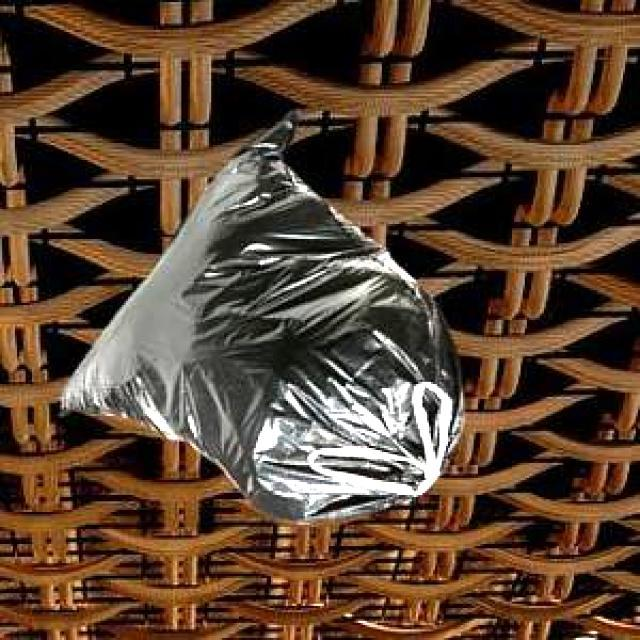Garbage_Bag: (58, 108, 460, 522)
